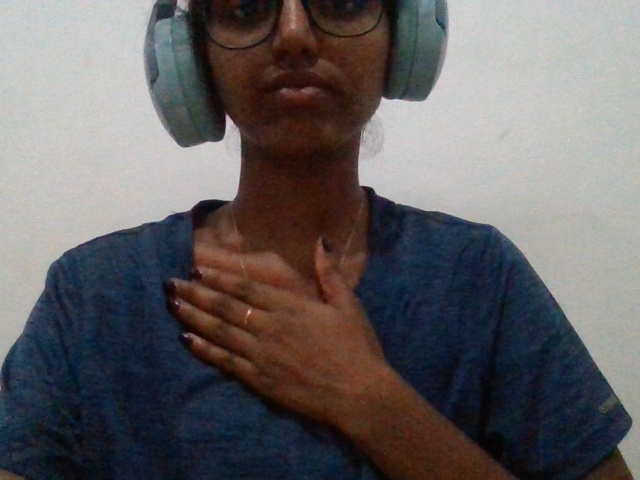Please: (138, 222, 435, 468)
